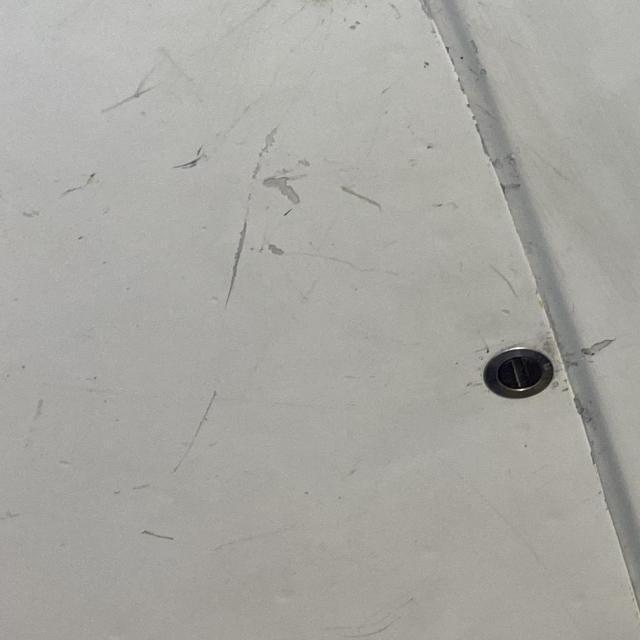Paint-off: (259, 173, 302, 210), (577, 339, 613, 359), (262, 244, 289, 256)
